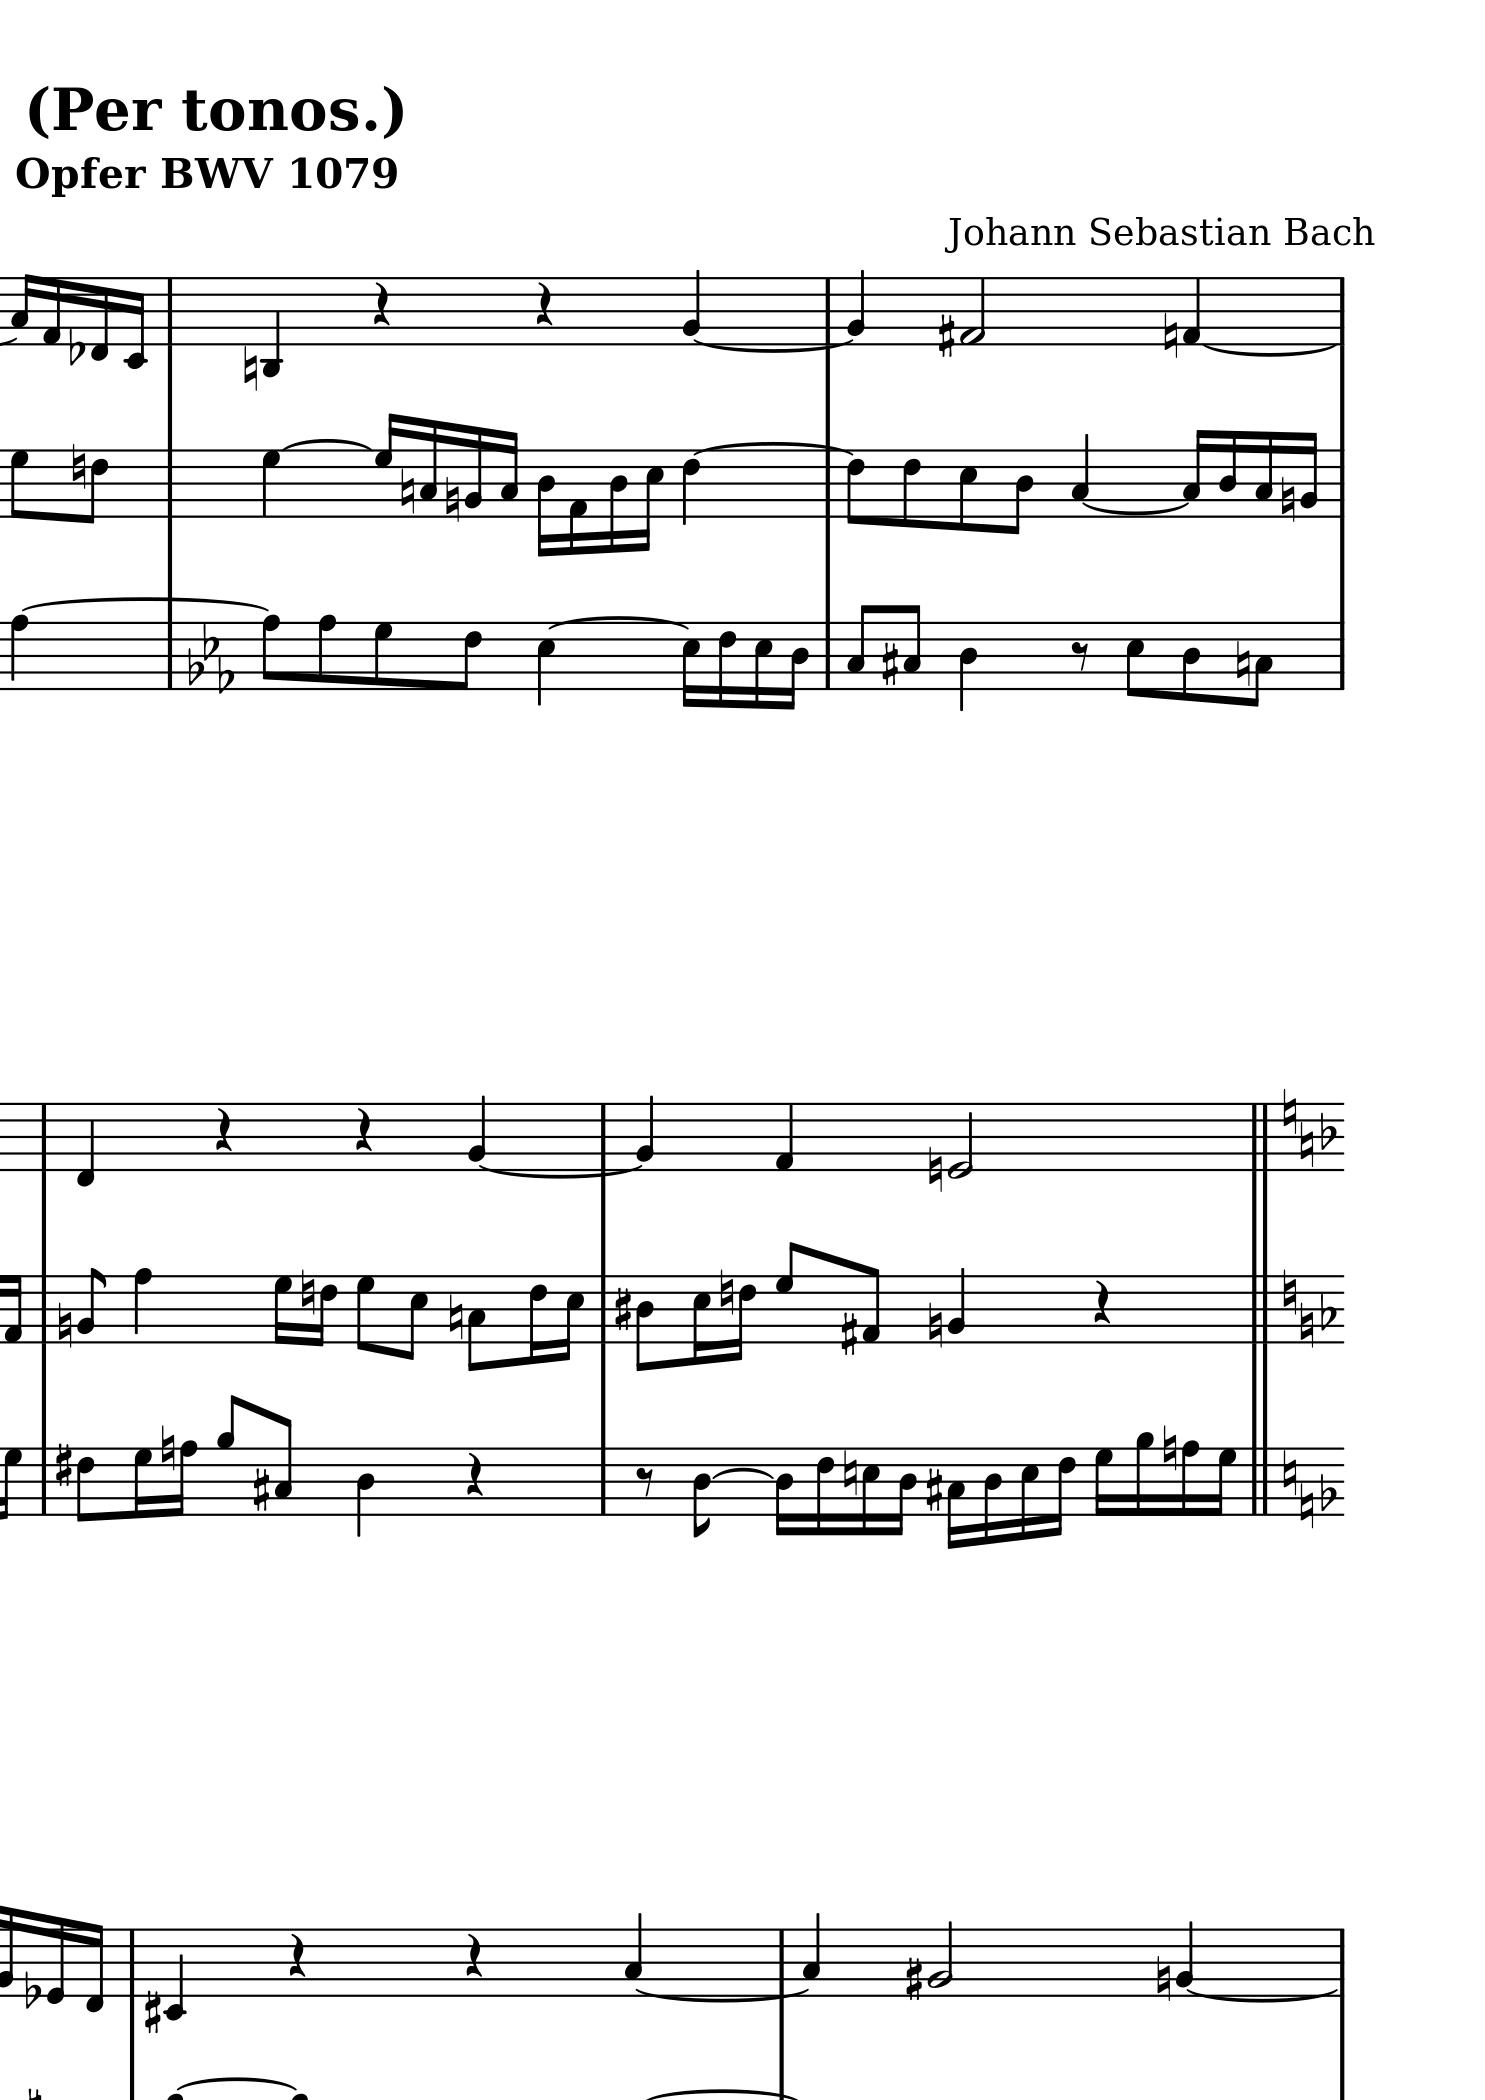16_-1: (82, 1922, 104, 2013), (43, 1914, 64, 2007), (88, 275, 109, 358)
16_-2: (122, 275, 146, 373)
16_1: (566, 448, 588, 556), (39, 275, 61, 345), (2, 1274, 22, 1345)
16_2: (461, 424, 484, 521), (1297, 431, 1318, 521)
16_3: (1180, 427, 1209, 519), (418, 418, 439, 521), (945, 1444, 964, 1550), (1252, 431, 1274, 517), (8, 272, 34, 345), (497, 429, 517, 519)
16_4: (534, 448, 556, 558), (604, 447, 627, 556), (890, 1448, 918, 1538), (783, 620, 808, 712), (980, 1446, 1003, 1546), (1217, 427, 1237, 519), (771, 1446, 792, 1538)
16_5: (636, 448, 664, 554), (558, 1273, 583, 1361), (858, 1446, 881, 1539), (678, 620, 701, 710), (751, 620, 773, 710), (1017, 1444, 1038, 1541), (689, 1276, 710, 1367)
16_6: (1046, 1444, 1077, 1538), (728, 1276, 757, 1363), (715, 619, 738, 710), (310, 1276, 337, 1346), (813, 1446, 832, 1538)
16_7: (371, 410, 399, 517), (1209, 1446, 1236, 1518), (1091, 1446, 1114, 1518), (2, 1446, 22, 1522), (132, 1446, 153, 1522), (272, 1274, 292, 1346)
16_8: (170, 1440, 198, 1518), (1178, 1438, 1201, 1518)
16_9: (1133, 1432, 1152, 1517)
2_0: (947, 1101, 972, 1179)
2_1: (959, 276, 987, 345)
2_2: (926, 1918, 953, 1997)
4_-1: (72, 1102, 95, 1189)
4_-2: (161, 1926, 185, 2021)
4_-3: (260, 275, 283, 382)
4_1: (771, 1102, 794, 1173), (1181, 276, 1201, 345)
4_2: (464, 1093, 487, 1175), (680, 267, 701, 349), (945, 1264, 966, 1346), (845, 268, 866, 349), (633, 1093, 654, 1173), (1173, 1918, 1194, 1999)
4_3: (1069, 432, 1090, 519), (800, 1912, 821, 1999), (622, 1912, 641, 1999)
4_4: (956, 620, 979, 713), (354, 1446, 374, 1539)
4_5: (534, 620, 556, 709)
4_6: (678, 448, 701, 527)
4_7: (259, 448, 281, 519)
4_8: (6, 614, 29, 693), (130, 1266, 153, 1345)
8_1: (860, 1264, 881, 1343)
8_2: (74, 1266, 104, 1343)
8_3: (845, 603, 873, 691), (1246, 622, 1273, 709), (272, 1414, 292, 1517), (464, 1276, 485, 1374), (902, 604, 921, 693)
8_4: (1004, 448, 1033, 537), (633, 1274, 656, 1374), (689, 1446, 710, 1539), (1180, 620, 1201, 704)
8_5: (400, 1273, 427, 1363), (956, 448, 977, 533), (1123, 620, 1144, 699)
8_6: (82, 448, 109, 527), (526, 1273, 548, 1366), (453, 620, 482, 693), (844, 447, 866, 525), (900, 448, 921, 530), (76, 1448, 96, 1526)
8_7: (775, 1240, 799, 1345), (354, 1273, 376, 1353), (8, 448, 31, 521), (371, 620, 394, 691)
8_8: (259, 612, 281, 691), (315, 614, 337, 693)
8_9: (215, 1388, 239, 1517)
Double_barline: (1246, 1448, 1271, 1517), (1246, 1276, 1271, 1343)
E_F: (183, 622, 235, 696)
Flat: (1318, 1290, 1336, 1330), (22, 1968, 39, 2012), (67, 326, 84, 366), (1319, 1110, 1336, 1150), (1318, 1470, 1332, 1512)
Natural: (1279, 1448, 1299, 1504), (239, 342, 259, 392), (445, 1290, 463, 1343), (1279, 1269, 1299, 1318), (1160, 308, 1178, 358), (1278, 474, 1295, 524), (1231, 636, 1249, 686), (924, 1300, 942, 1350), (157, 1424, 175, 1473), (1159, 1424, 1176, 1473), (1299, 1472, 1315, 1526), (55, 1298, 72, 1346), (1297, 1300, 1315, 1348), (1152, 1955, 1170, 2004), (1299, 1118, 1316, 1166), (399, 466, 415, 517), (69, 442, 85, 492), (926, 1144, 942, 1194), (841, 1448, 857, 1497), (444, 476, 460, 524), (717, 1268, 733, 1316), (1282, 1086, 1299, 1134), (297, 1268, 313, 1313)
Rests4: (284, 1931, 307, 1981), (461, 1931, 484, 1981), (532, 280, 554, 328), (352, 1105, 374, 1154), (212, 1105, 233, 1155), (463, 1451, 484, 1499), (1090, 1279, 1111, 1326), (371, 280, 391, 328)
Rests8: (1067, 638, 1091, 673), (633, 1465, 656, 1497)
Sharp: (877, 639, 898, 689), (922, 1465, 943, 1514), (612, 1284, 632, 1334), (837, 1309, 857, 1358), (141, 1988, 161, 2036), (903, 1955, 922, 2004), (935, 312, 955, 358), (251, 1467, 270, 1514), (53, 1441, 71, 1489)
Single_barline: (161, 607, 178, 688), (157, 278, 178, 345), (159, 450, 180, 517), (1331, 450, 1352, 517), (591, 1276, 611, 1343), (121, 1930, 140, 1997), (595, 1102, 612, 1171), (818, 622, 836, 689), (1332, 622, 1350, 689), (34, 1276, 51, 1343), (593, 1448, 611, 1515), (34, 1104, 51, 1170), (820, 455, 837, 517), (1332, 1930, 1350, 1992), (773, 1930, 791, 1992), (820, 278, 836, 342), (35, 1448, 50, 1515), (1332, 278, 1348, 333)
Slur: (11, 594, 273, 614), (681, 437, 861, 458), (633, 1986, 808, 2005), (479, 1163, 652, 1181), (694, 339, 853, 357), (548, 614, 688, 633), (174, 2078, 301, 2097), (1186, 1989, 1342, 2004), (1204, 342, 1340, 358), (1078, 501, 1189, 514), (280, 439, 371, 451), (710, 1469, 775, 1480)
